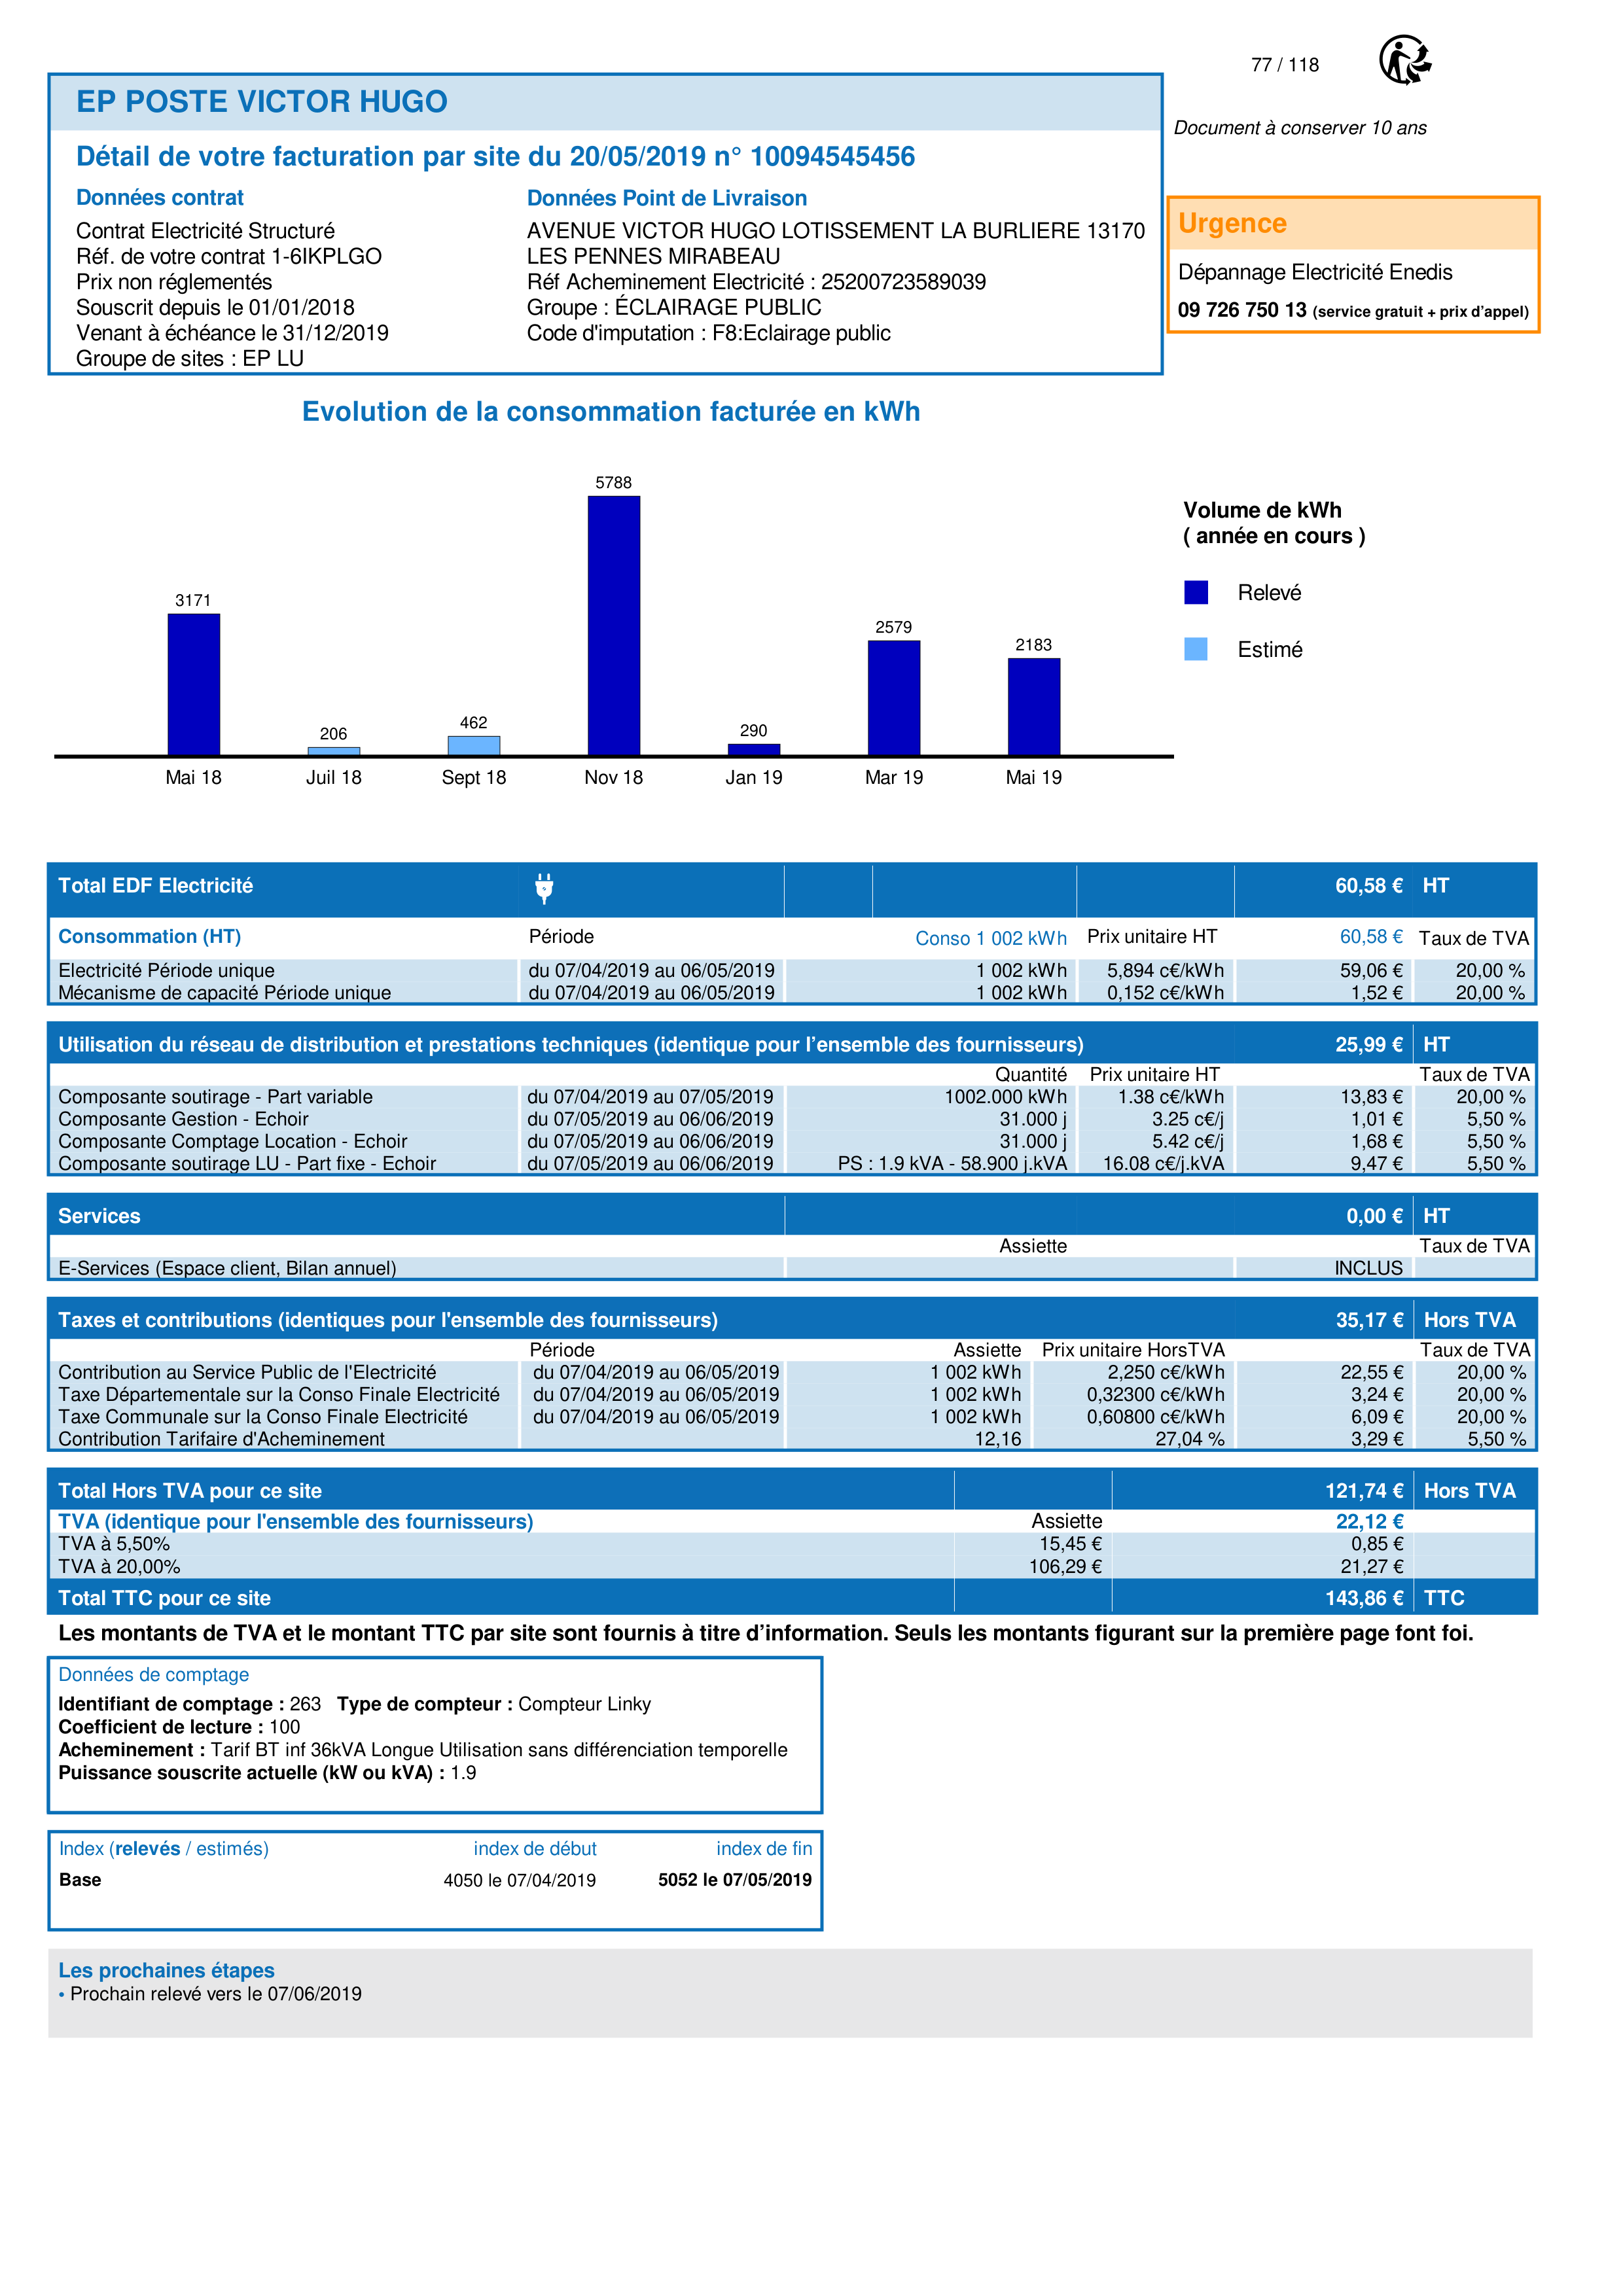area: (46, 1832, 823, 1932)
type_indicator: (47, 1833, 282, 1866)
